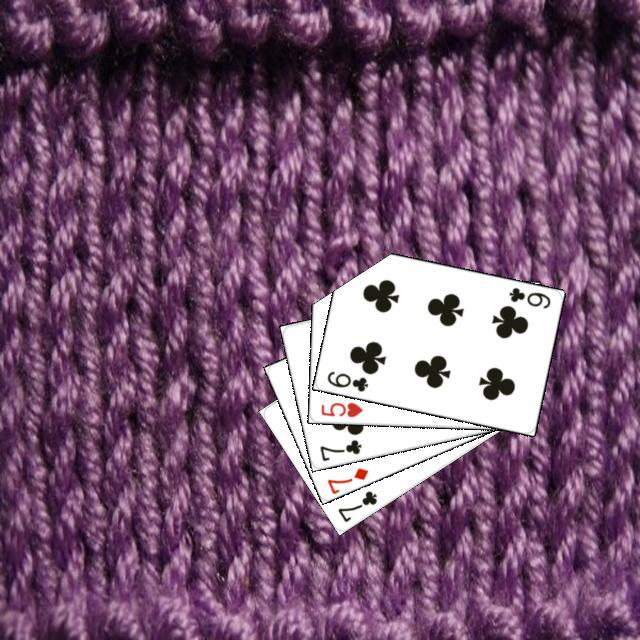5h: (316, 398, 364, 419)
6c: (504, 282, 552, 310), (322, 366, 370, 393)
7c: (333, 486, 379, 524), (315, 435, 363, 463)
7d: (322, 463, 370, 495)
